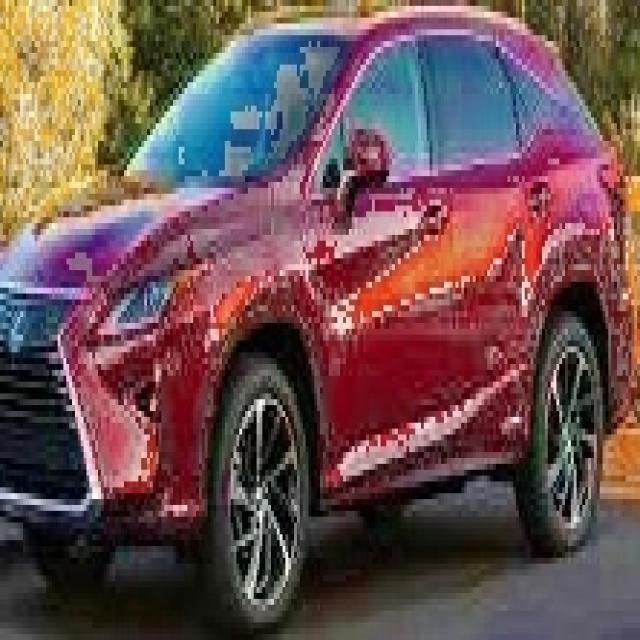maroon: (6, 12, 640, 599)
